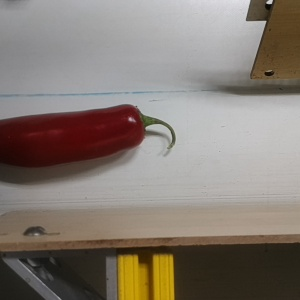Cut Point: (123, 103, 154, 148)
